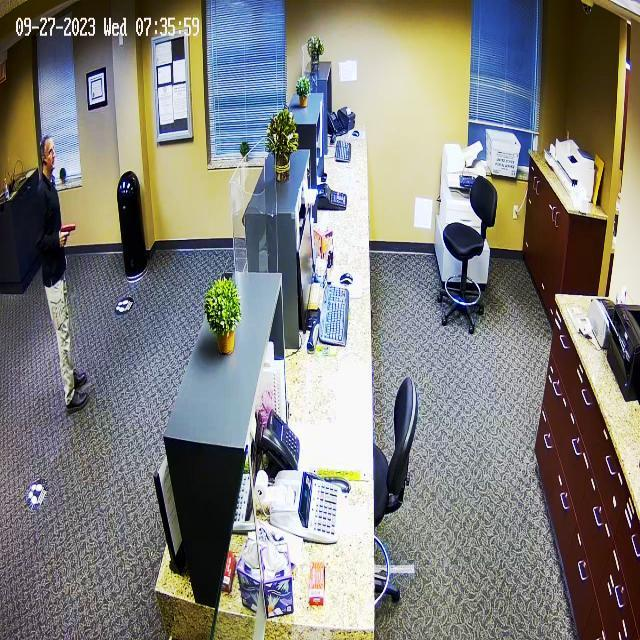Gun: (57, 218, 85, 252)
